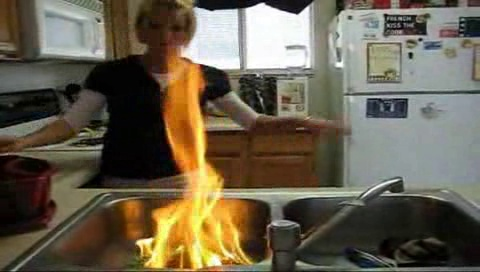fire: (146, 63, 245, 261)
